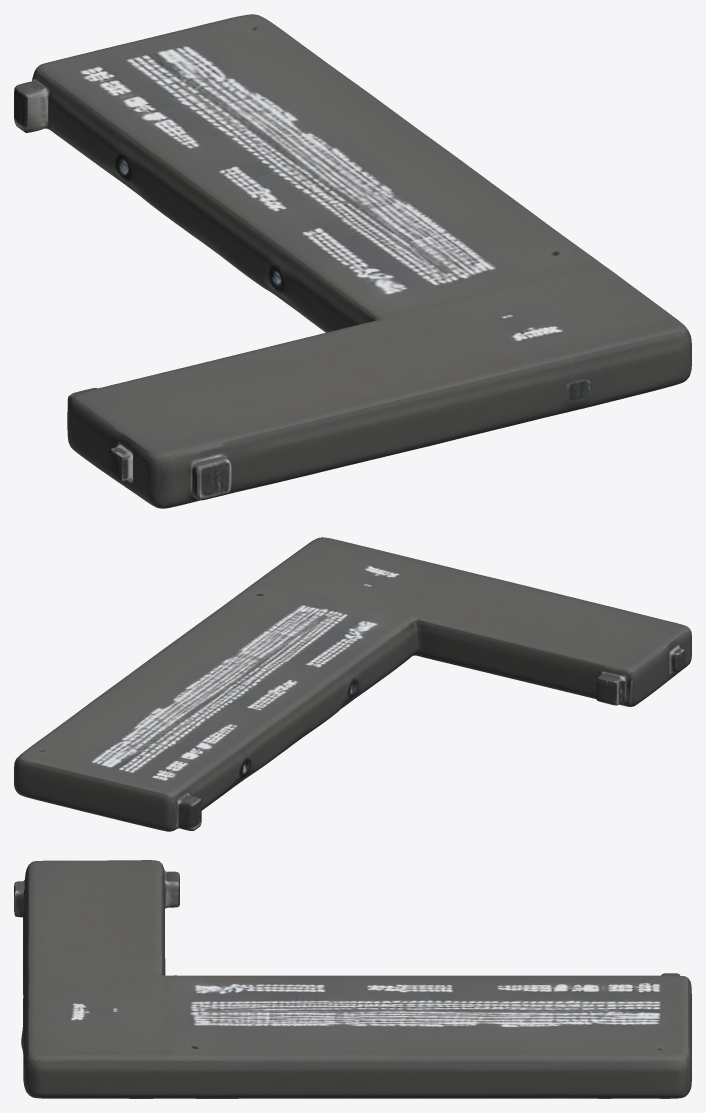
Rendered from battery.glb.
The picture shows the model from 3 angles, top to bottom: view 1: azimuth 30°, elevation 25°; view 2: azimuth 150°, elevation 25°; view 3: azimuth 270°, elevation 25°; orthographic projection. The views are drawn at different scales.
Parts seen in each view (by area): view 1: tmp3oxnr50x.ply; view 2: tmp3oxnr50x.ply; view 3: tmp3oxnr50x.ply.
Boxes of the visible parts, bbox=[...] form: tmp3oxnr50x.ply: bbox=[14, 14, 691, 508]; tmp3oxnr50x.ply: bbox=[14, 537, 691, 831]; tmp3oxnr50x.ply: bbox=[14, 860, 691, 1098].
Bounding box in the file's own units: 0.7101 × 0.0684 × 0.9882.
Materials: 1 (1 with a texture image).
